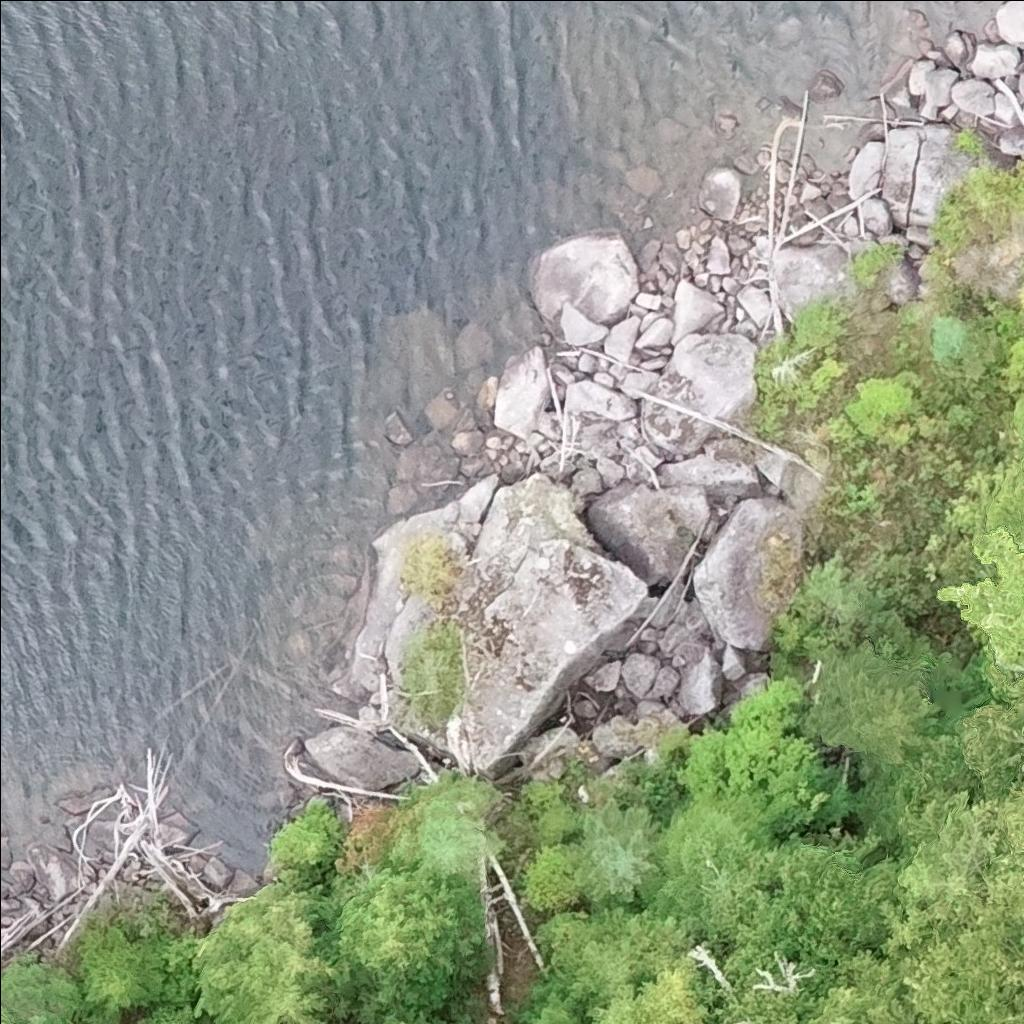crown: (723, 839, 903, 991), (317, 860, 482, 1023), (192, 867, 346, 1023), (798, 639, 947, 777), (938, 527, 1023, 666), (561, 793, 664, 906), (380, 796, 504, 884), (986, 782, 1023, 915), (930, 312, 968, 361), (379, 1003, 435, 1023), (1020, 429, 1023, 445), (1020, 266, 1023, 275)
